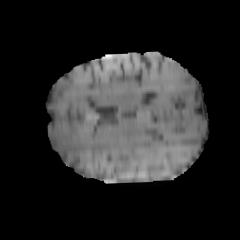glioma: (51, 129, 161, 182)
